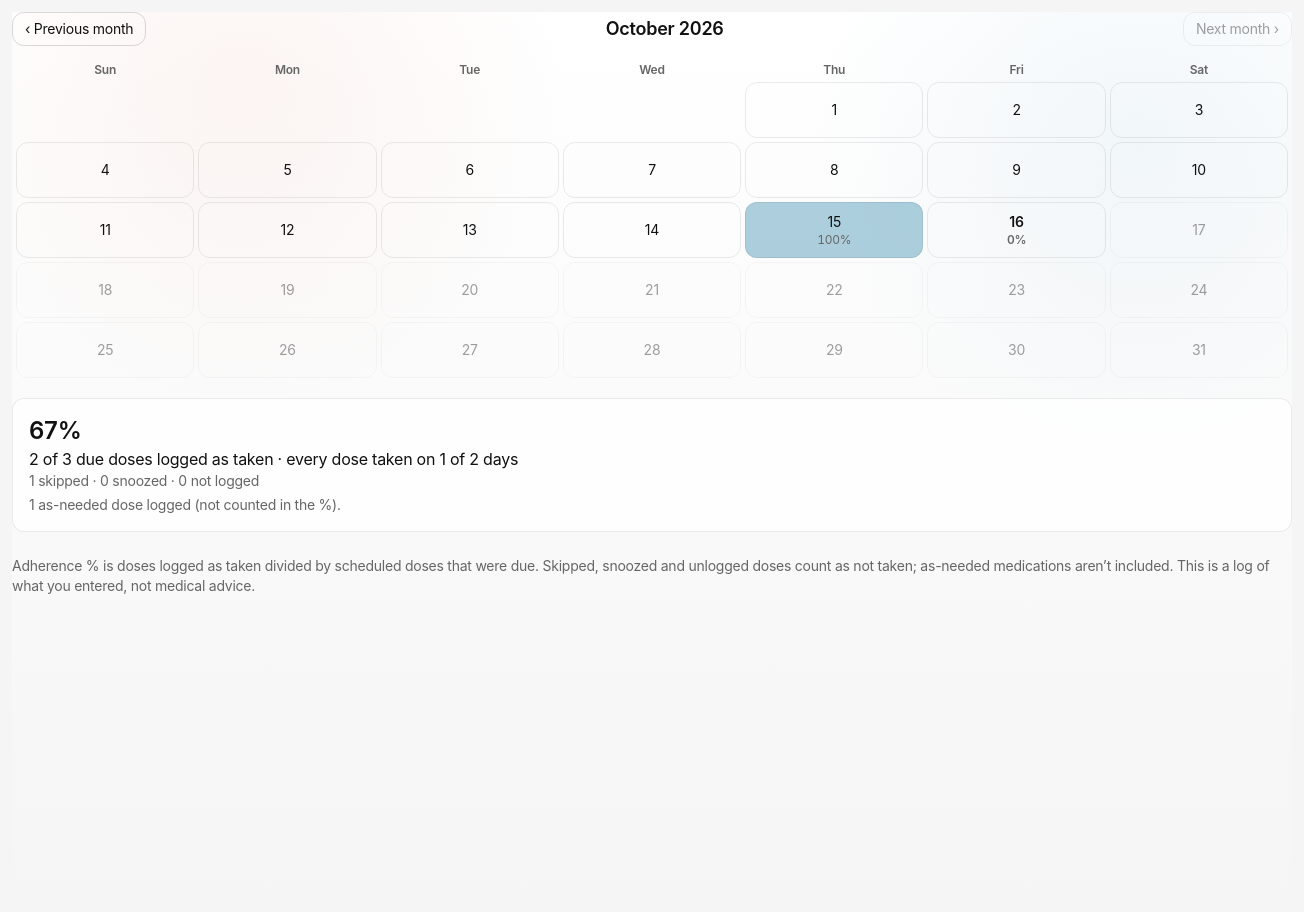
Test: HistoryScreen › shows per-day adherence for the current month and a month summary
Check: the heading "October 2026" is shown, box [606, 15, 724, 43]
Check: the text "67%" is shown, box [29, 416, 82, 445]
Click the button "16 0%": (1017, 230) [927, 202, 1106, 258]
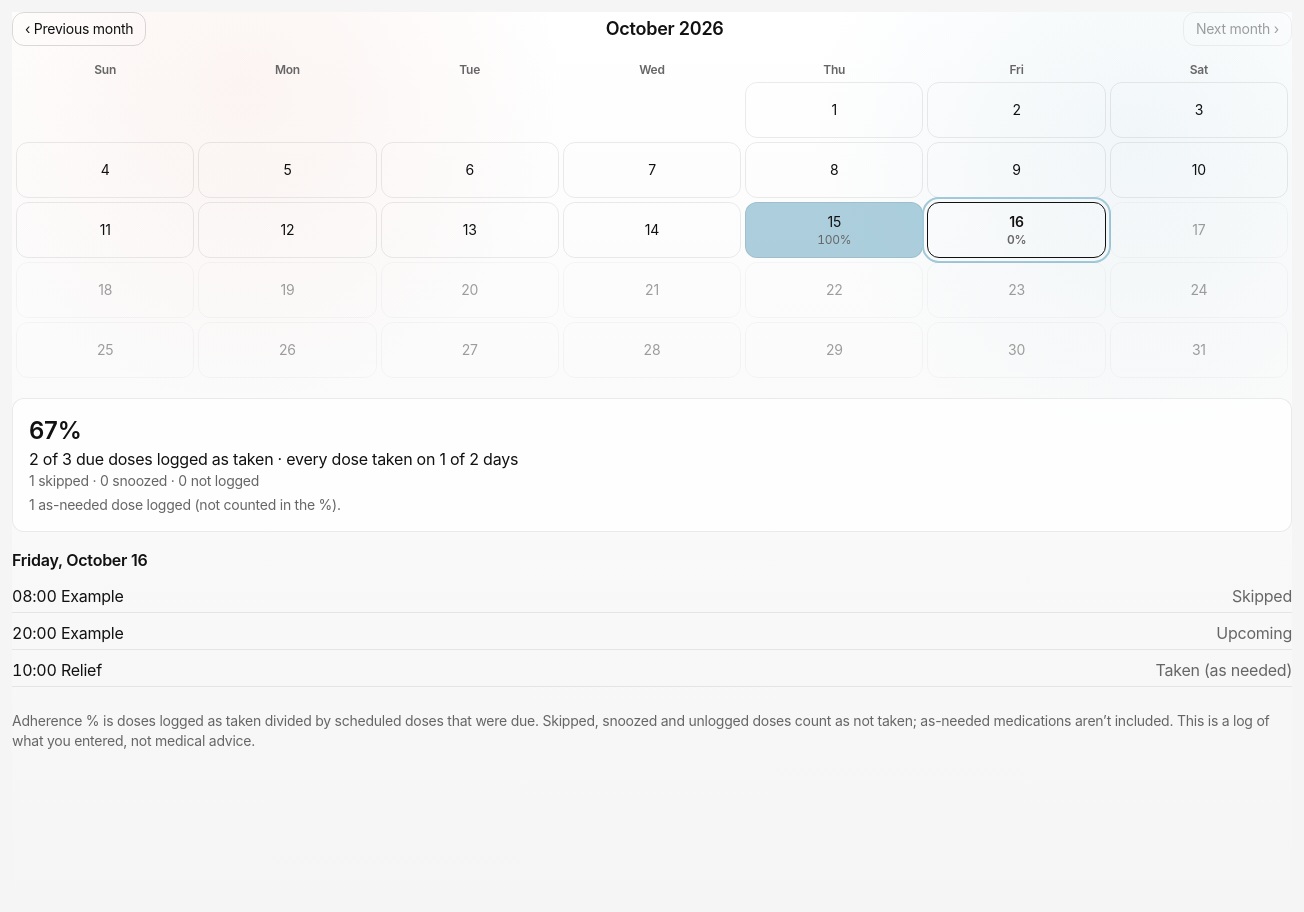
Check: the button "Next month ›" is disabled, box [1183, 12, 1292, 46]
Click the button "‹ Previous month": (79, 29) [12, 12, 146, 46]
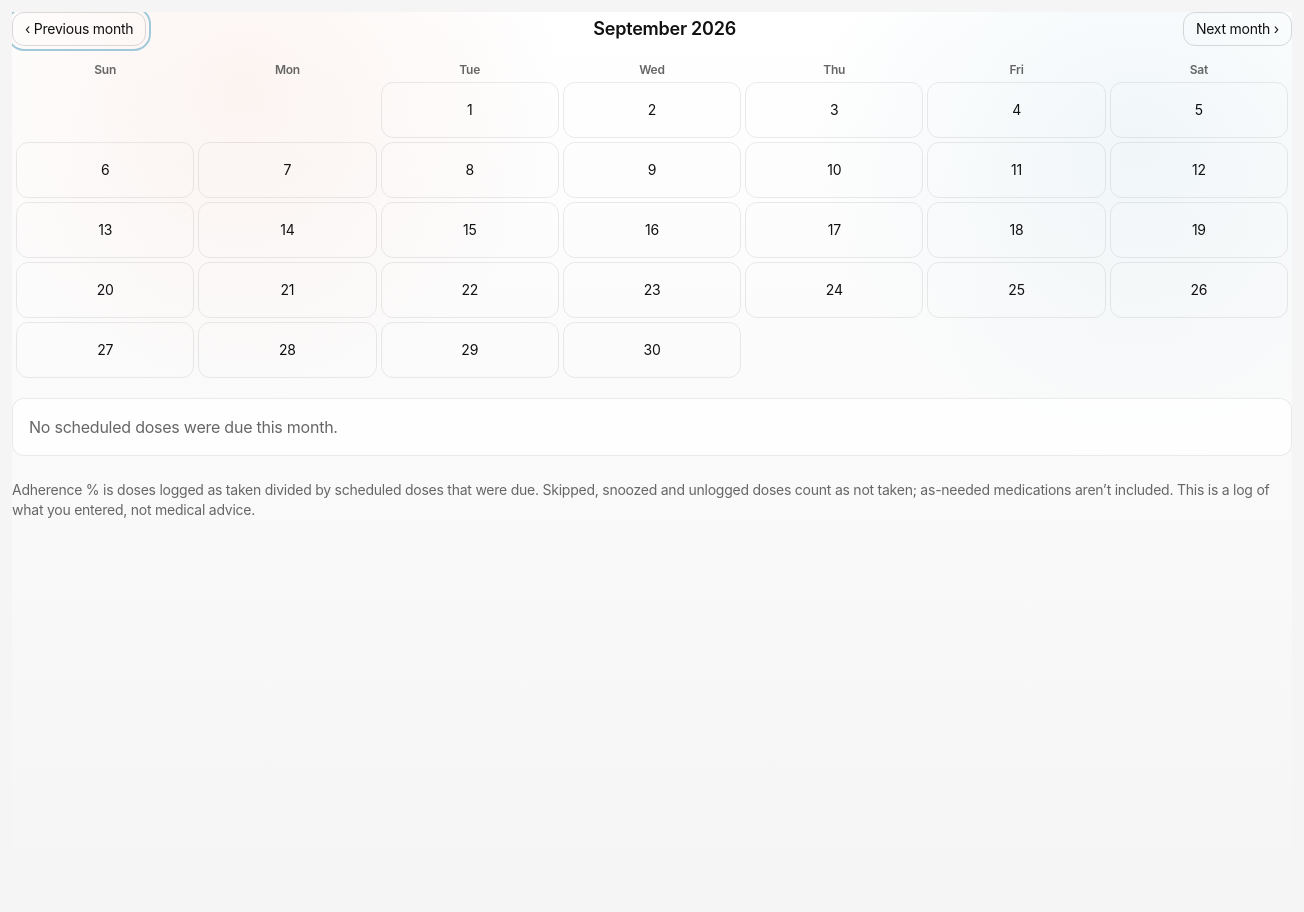
Check: the heading "September 2026" is shown, box [593, 15, 736, 43]
Check: the text "No scheduled doses were due this month." is shown, box [29, 417, 338, 437]
Check: the button "Next month ›" is enabled, box [1183, 12, 1292, 46]
